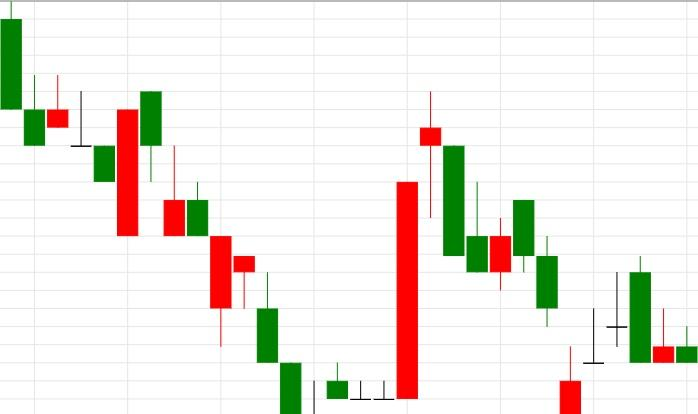bullish_engulfing_rise: (1, 1, 138, 236)
